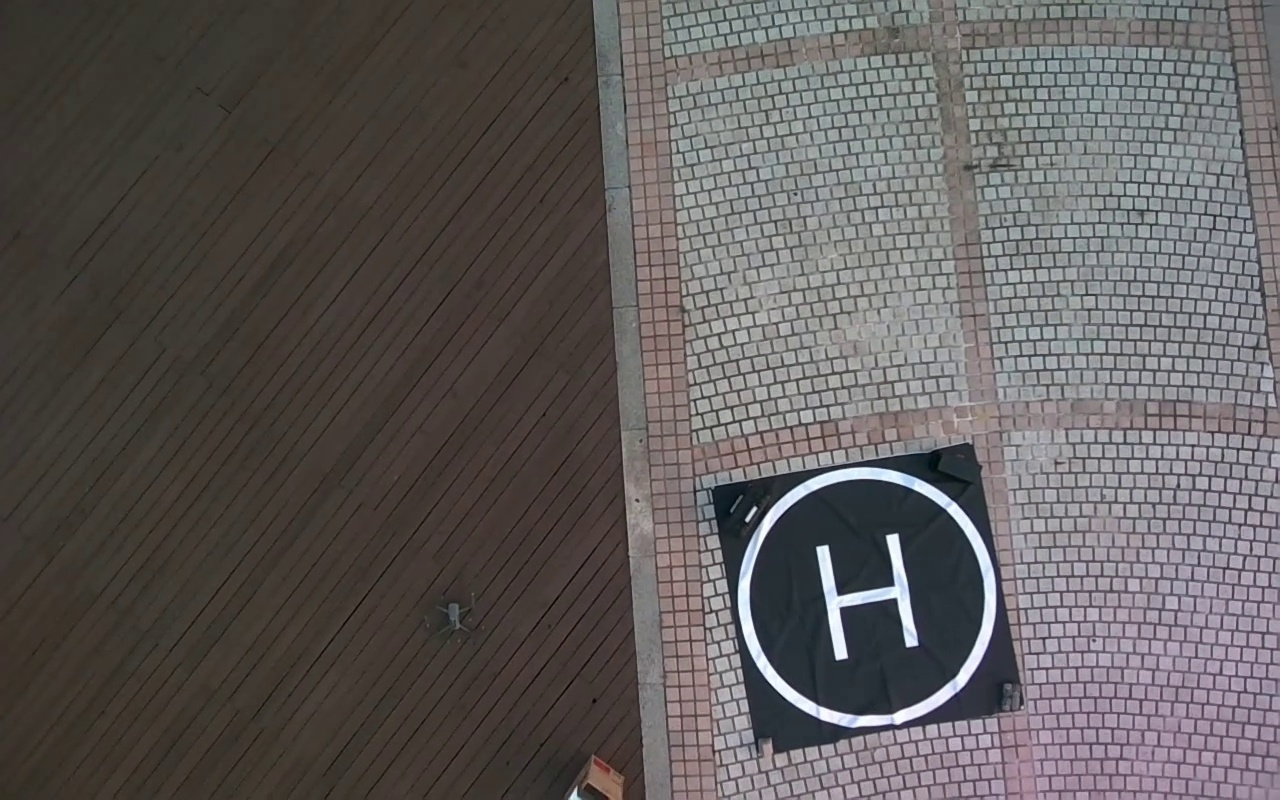H: (812, 532, 922, 661)
heliport: (735, 464, 999, 726)
